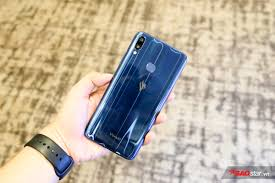vsmart: (83, 29, 187, 165)
